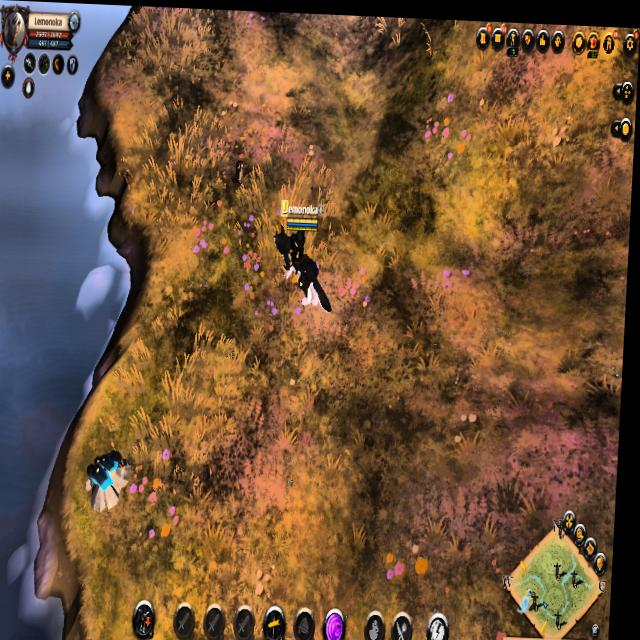ore tier 4: (88, 445, 140, 515)
